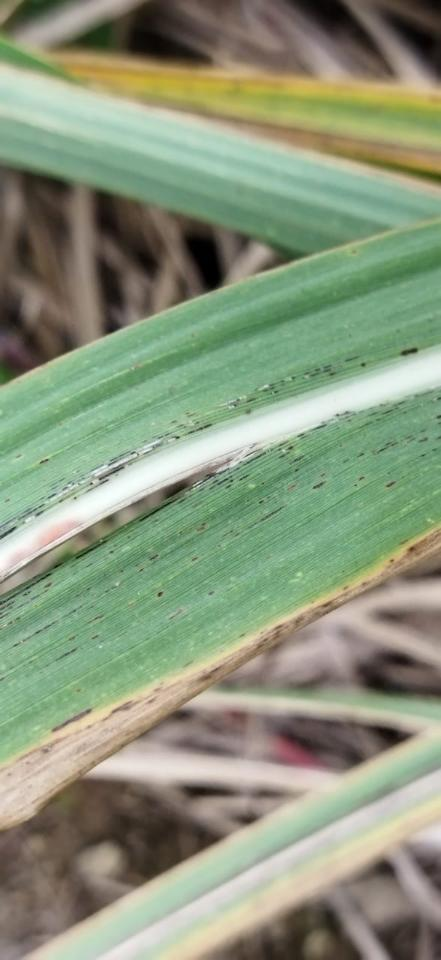RedRot: (6, 519, 83, 570)
Rust: (88, 433, 181, 480), (0, 570, 52, 607), (45, 704, 95, 737), (0, 586, 49, 619), (11, 617, 61, 649), (0, 508, 45, 542), (184, 465, 230, 495), (0, 503, 46, 533), (46, 473, 89, 503), (138, 496, 179, 524), (247, 503, 287, 531), (74, 537, 110, 561), (73, 478, 110, 501), (89, 465, 125, 487), (253, 374, 296, 392), (242, 446, 275, 468), (215, 393, 247, 410), (296, 423, 329, 439), (55, 645, 80, 663), (186, 422, 216, 437), (301, 363, 333, 376), (398, 341, 421, 359), (209, 474, 233, 491), (375, 440, 398, 456), (0, 599, 16, 616), (289, 451, 307, 466), (86, 612, 105, 626), (309, 368, 332, 378), (310, 479, 328, 491), (153, 588, 167, 602), (341, 355, 360, 364), (147, 551, 161, 562), (276, 451, 291, 461), (237, 472, 251, 482), (384, 479, 396, 489), (333, 410, 350, 417), (21, 589, 33, 598), (38, 458, 51, 466), (381, 408, 393, 416), (245, 396, 258, 403), (358, 361, 368, 369), (357, 475, 367, 482), (418, 437, 428, 444), (418, 428, 428, 434), (224, 483, 232, 490), (257, 499, 265, 506), (328, 371, 337, 377), (420, 452, 427, 459), (44, 582, 52, 588), (292, 468, 300, 474), (287, 445, 294, 451), (107, 550, 114, 556), (435, 414, 440, 420), (436, 433, 440, 440), (431, 447, 437, 451)
Yellow: (0, 522, 440, 833)
